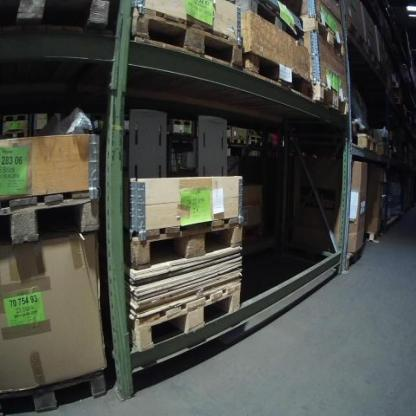pallet: (130, 282, 242, 355), (130, 7, 244, 71), (123, 214, 245, 272), (0, 187, 103, 250), (0, 366, 111, 416), (244, 47, 311, 99), (235, 0, 303, 44), (299, 13, 346, 58), (312, 80, 350, 116), (346, 18, 366, 48), (355, 133, 379, 153), (346, 245, 363, 268), (2, 129, 28, 140), (2, 113, 26, 123), (366, 229, 382, 241), (172, 117, 192, 126), (248, 139, 264, 146), (232, 137, 246, 145), (249, 135, 264, 140)
